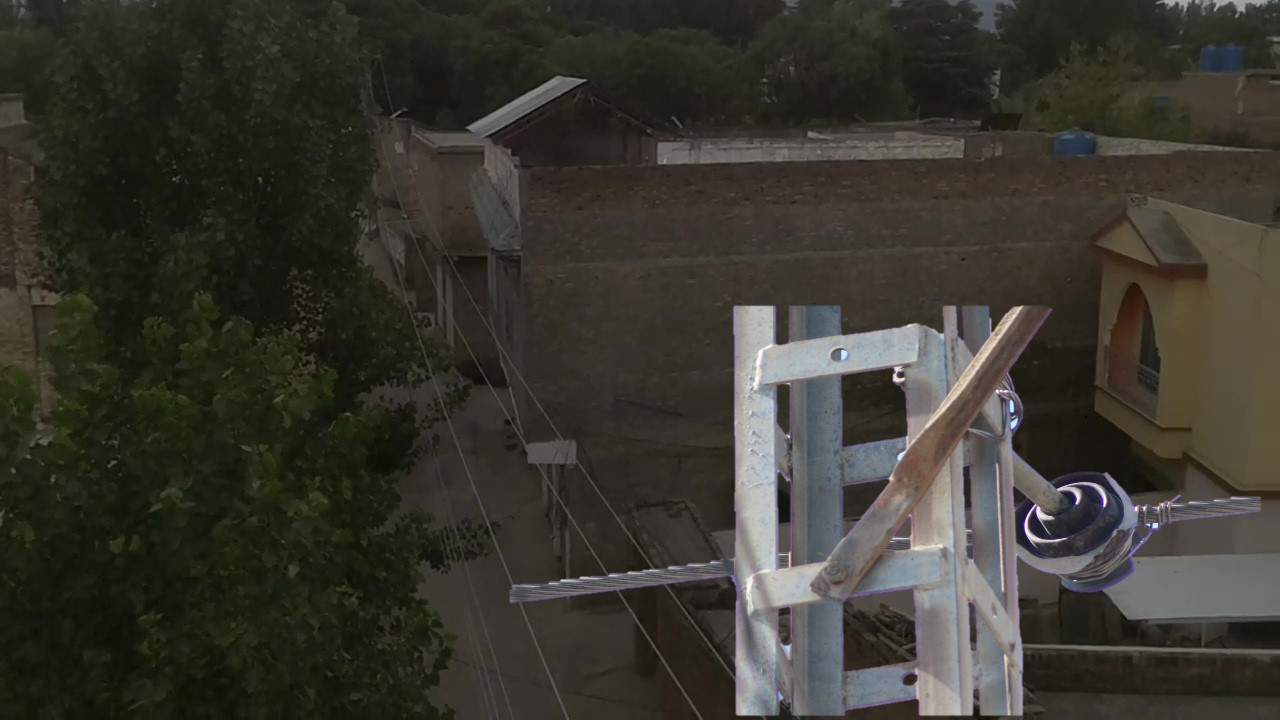defect_pin: (1014, 465, 1155, 604)
